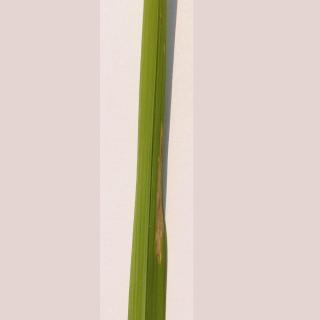Hawar-Daun: (147, 128, 174, 274)
